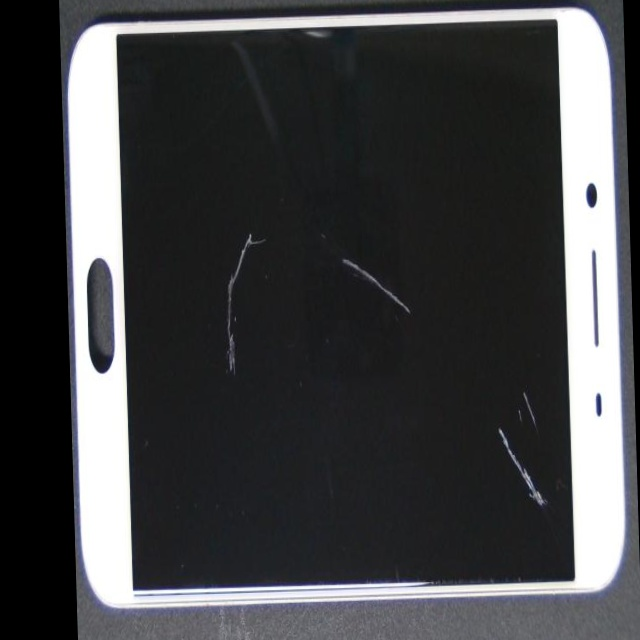scratch: (292, 222, 640, 640), (295, 140, 575, 433), (174, 77, 356, 348)
